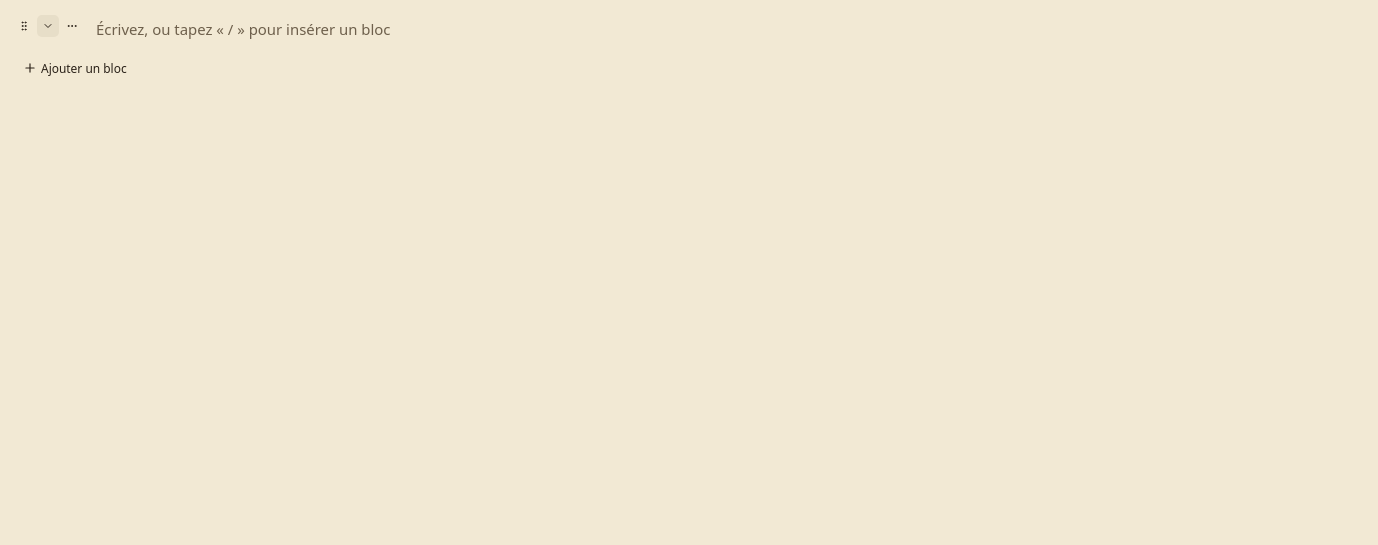
Test: "/" turns its empty line into a heading, from the text family
This screenshot has width=1378, height=545.
Press / in the field named "Bloc de texte 1", box [88, 12, 1377, 46]
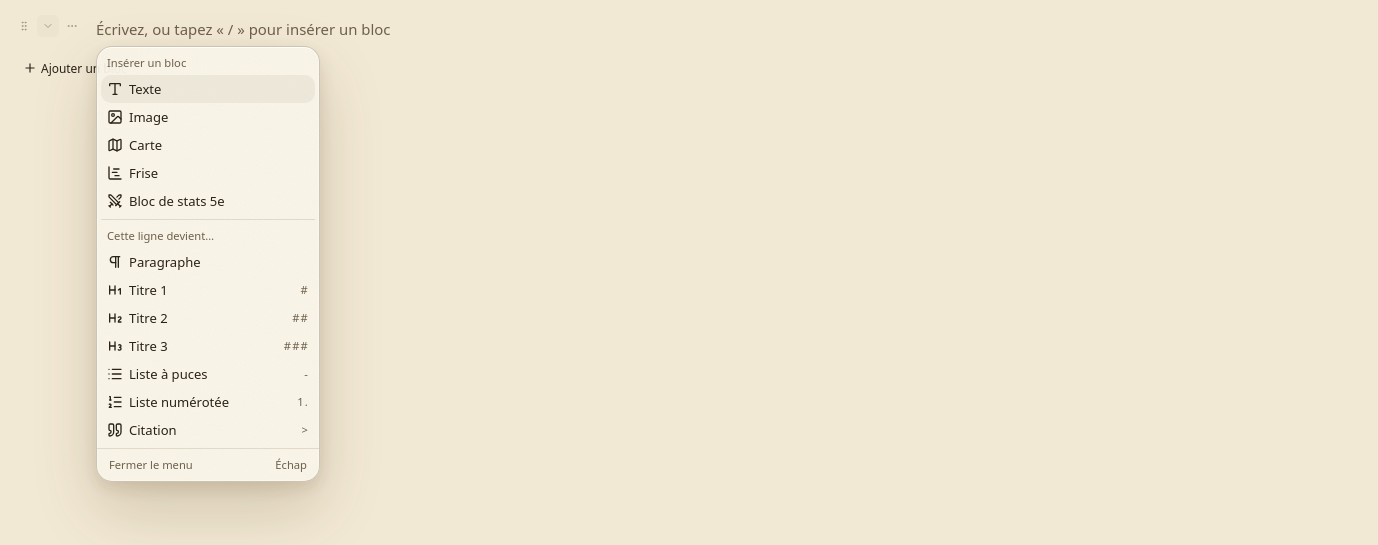
Expected: the text "Fermer le menu" is shown, [109, 457, 193, 472]
Click the menu item "Titre 2 ##" at (148, 318), box [101, 304, 315, 332]
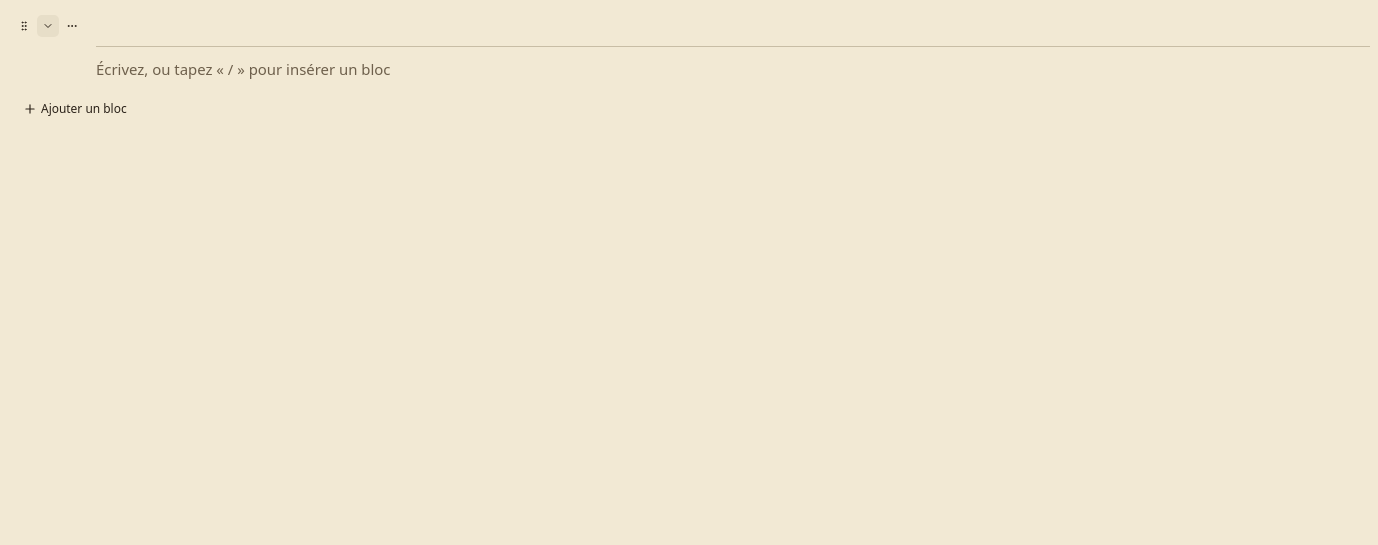
Expected: the heading is shown, [96, 16, 1370, 47]
